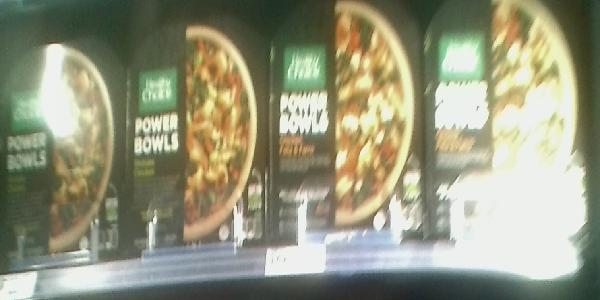pizza1: (265, 1, 429, 248), (425, 1, 581, 248), (125, 20, 265, 250), (1, 33, 124, 256)
